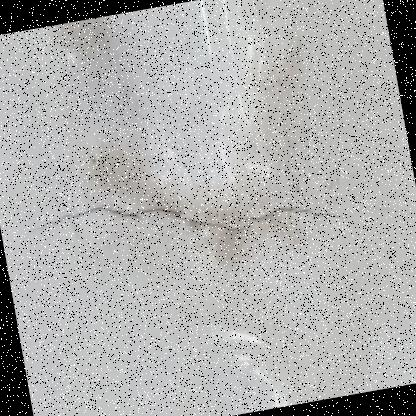Crack: (6, 96, 386, 316)
